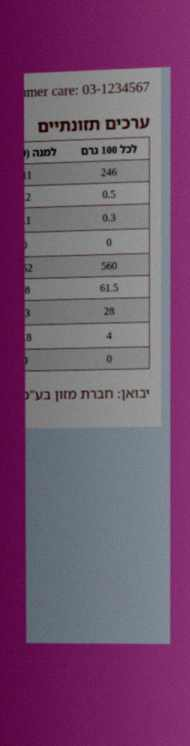carbs: (98, 278, 120, 297)
energy: (99, 162, 119, 181)
fat: (100, 185, 117, 203)
protein: (105, 349, 114, 368)
